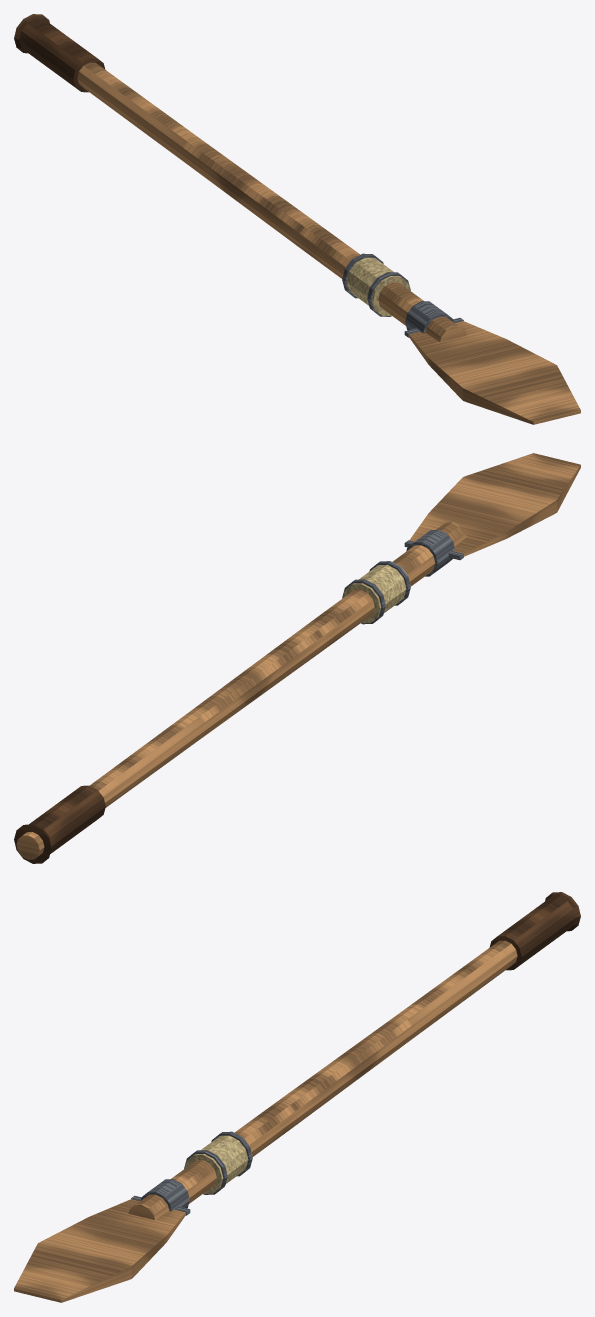
File: oar.fbx
3 renders of one model, top to bottom at view 1: azimuth 30°, elevation 25°; view 2: azimuth 150°, elevation 25°; view 3: azimuth 330°, elevation 25°, orthographic.
Visible parts, largest first — view 1: oar; view 2: oar; view 3: oar.
Boxes of the visible parts, x1,y1,x2,y2 form: oar: [14, 14, 580, 424]; oar: [14, 453, 580, 863]; oar: [14, 892, 580, 1302].
Size of the model in its own units: 23 by 10 by 224.
